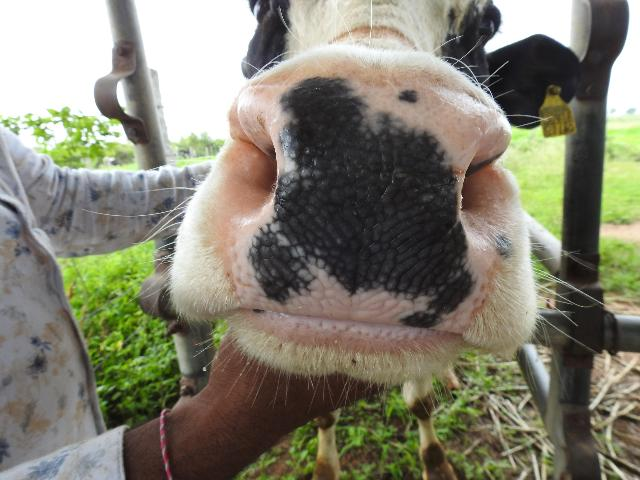Muzzle: (266, 87, 468, 321)
